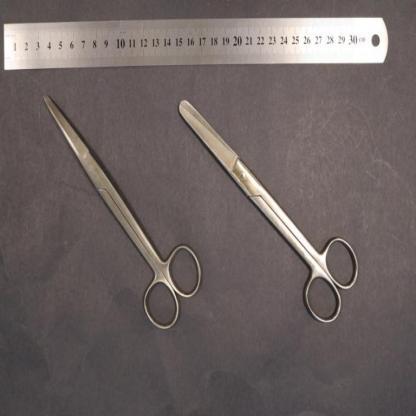Curved Mayo Scissors: (43, 94, 203, 332)
Dressing Scissors: (178, 98, 360, 326)
